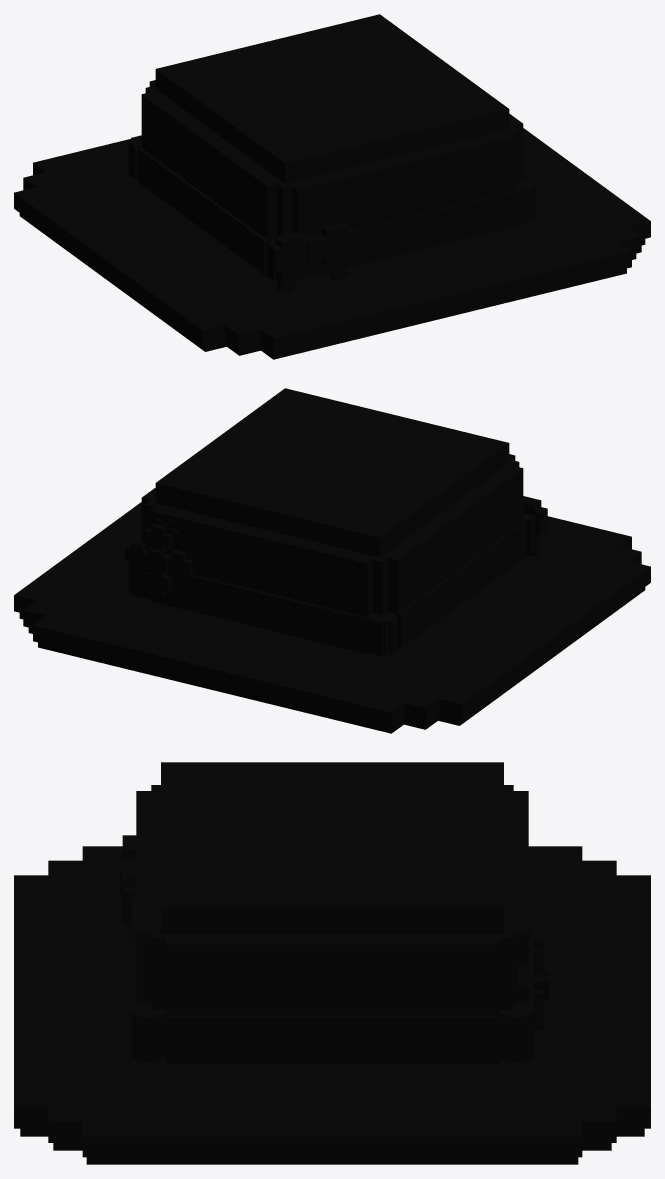
Rendered from hat_straw_garden.obj.
The picture shows the model from 3 angles, top to bottom: view 1: azimuth 30°, elevation 25°; view 2: azimuth 150°, elevation 25°; view 3: azimuth 270°, elevation 25°; orthographic projection. The views are drawn at different scales.
Bounding box in the file's own units: 0.875 × 0.2637 × 0.8125.
